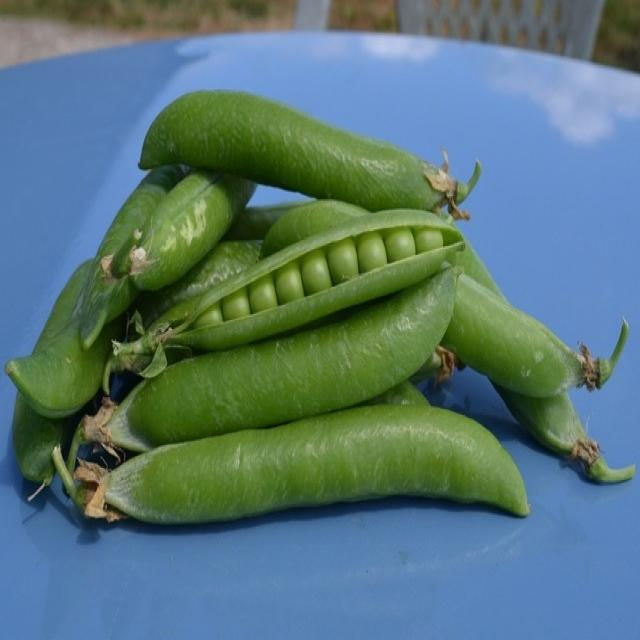pea: (46, 405, 532, 522), (84, 272, 467, 415), (116, 212, 466, 346), (138, 83, 490, 213)
